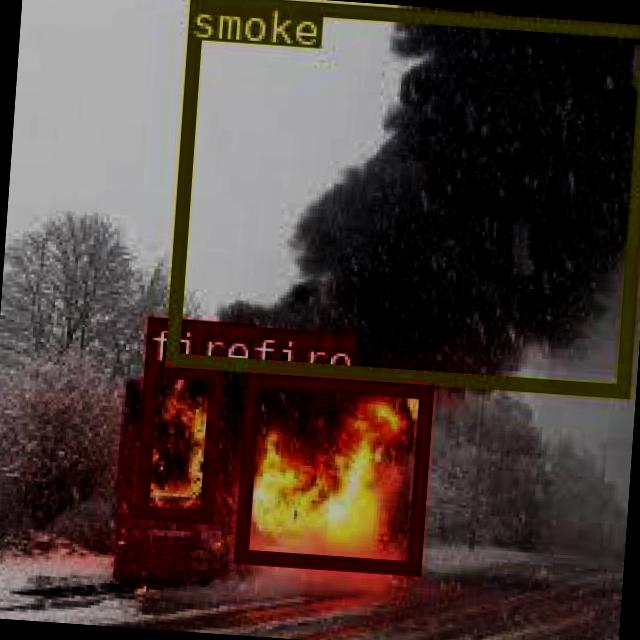fire: (232, 369, 430, 573), (134, 360, 221, 521)
smoke: (162, 0, 640, 393)
